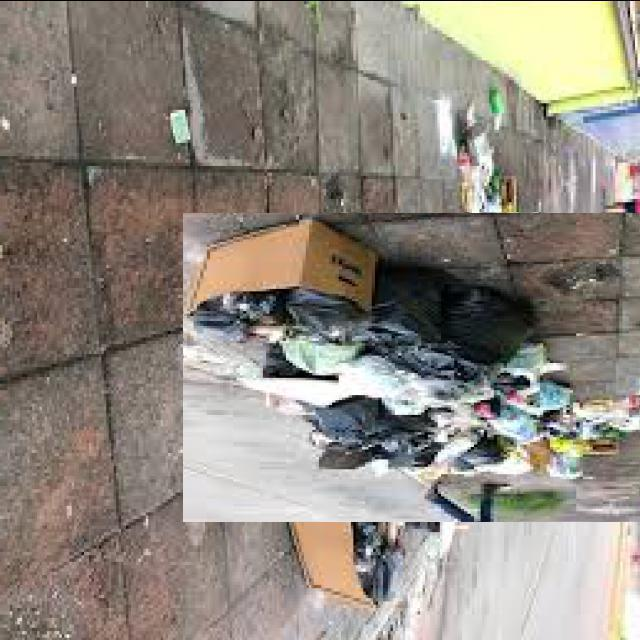Trashbag: (310, 395, 438, 476), (444, 281, 535, 372), (372, 260, 455, 346)
